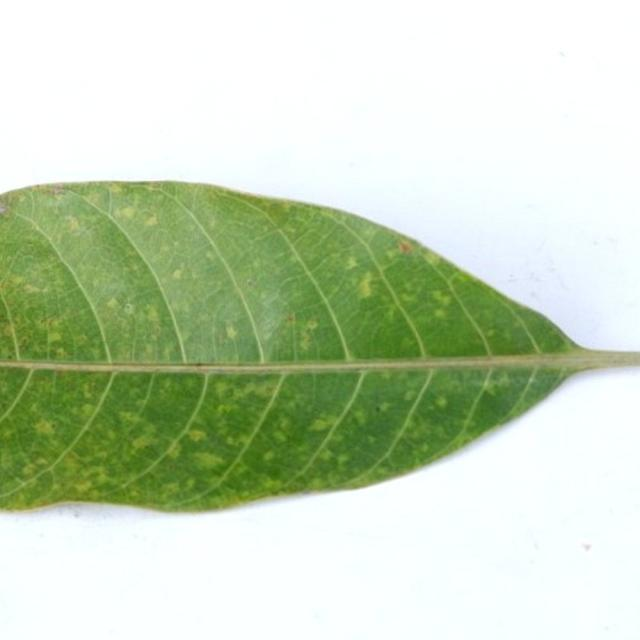Mango: (0, 182, 589, 509)
Powdery_Mildew: (298, 317, 322, 352), (354, 273, 379, 300), (197, 451, 225, 468), (2, 274, 29, 290), (33, 419, 56, 436), (131, 434, 155, 450), (164, 442, 184, 459), (432, 290, 453, 306), (85, 192, 105, 207), (120, 411, 142, 424), (483, 377, 501, 392), (119, 205, 138, 219), (309, 419, 331, 431), (21, 282, 43, 294), (65, 216, 81, 232), (213, 381, 230, 396), (187, 429, 206, 442), (227, 434, 246, 447), (225, 325, 240, 341), (79, 403, 96, 417), (74, 480, 92, 493), (162, 482, 181, 494), (352, 409, 367, 424), (423, 252, 440, 265), (344, 256, 359, 270), (147, 306, 160, 322), (21, 463, 38, 475), (276, 417, 290, 431), (304, 319, 319, 332), (49, 185, 66, 196), (105, 296, 119, 309), (47, 331, 62, 343), (3, 324, 16, 337), (385, 248, 399, 260), (386, 308, 398, 322), (398, 241, 412, 253), (273, 431, 287, 443), (144, 215, 159, 226), (217, 404, 232, 415), (0, 200, 10, 216), (262, 451, 276, 462), (320, 451, 334, 462), (401, 293, 416, 303), (171, 268, 183, 280), (435, 397, 448, 408), (404, 390, 417, 401), (336, 454, 349, 465), (109, 184, 124, 193), (55, 347, 67, 358), (378, 402, 391, 412), (285, 312, 296, 323), (285, 226, 297, 236), (433, 309, 446, 318), (124, 303, 134, 314), (18, 337, 28, 347), (205, 251, 215, 261), (419, 444, 429, 453), (485, 329, 495, 337), (252, 262, 260, 272), (366, 436, 376, 444), (246, 279, 255, 287)
